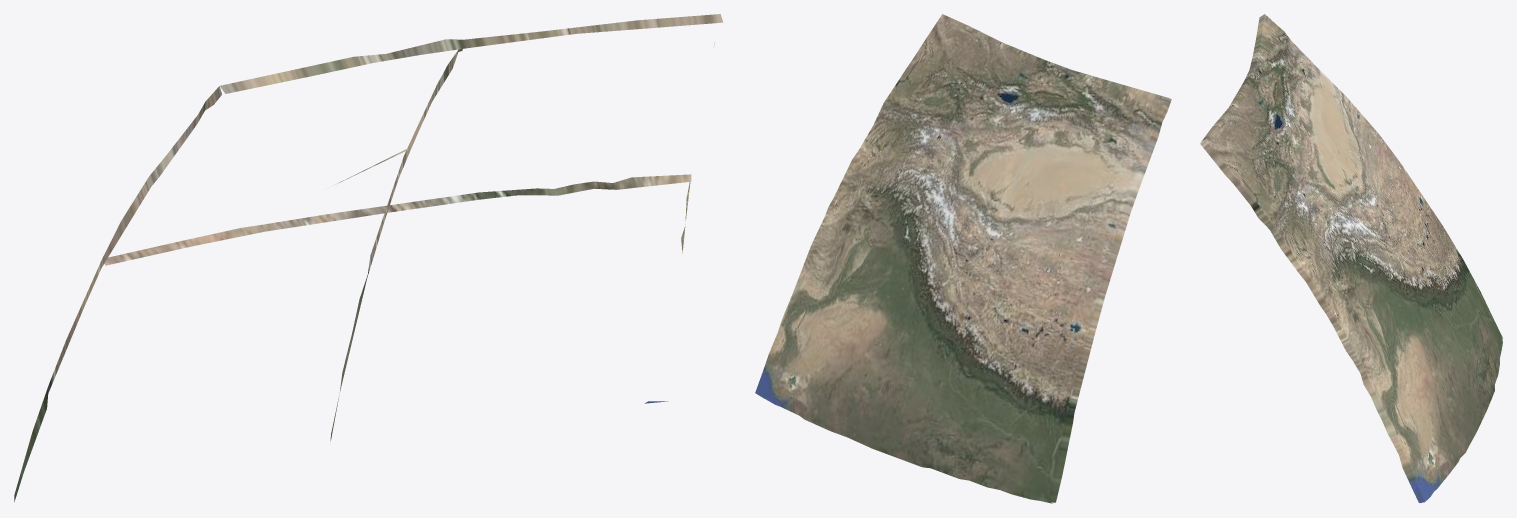
3 renders of one model, left to right at view 1: azimuth 30°, elevation 25°; view 2: azimuth 150°, elevation 25°; view 3: azimuth 270°, elevation 25°, orthographic. The views are drawn at different scales.
Size of the model in its own units: 2288143 by 2109174 by 1759984.
Materials: 1 (1 with a texture image).
